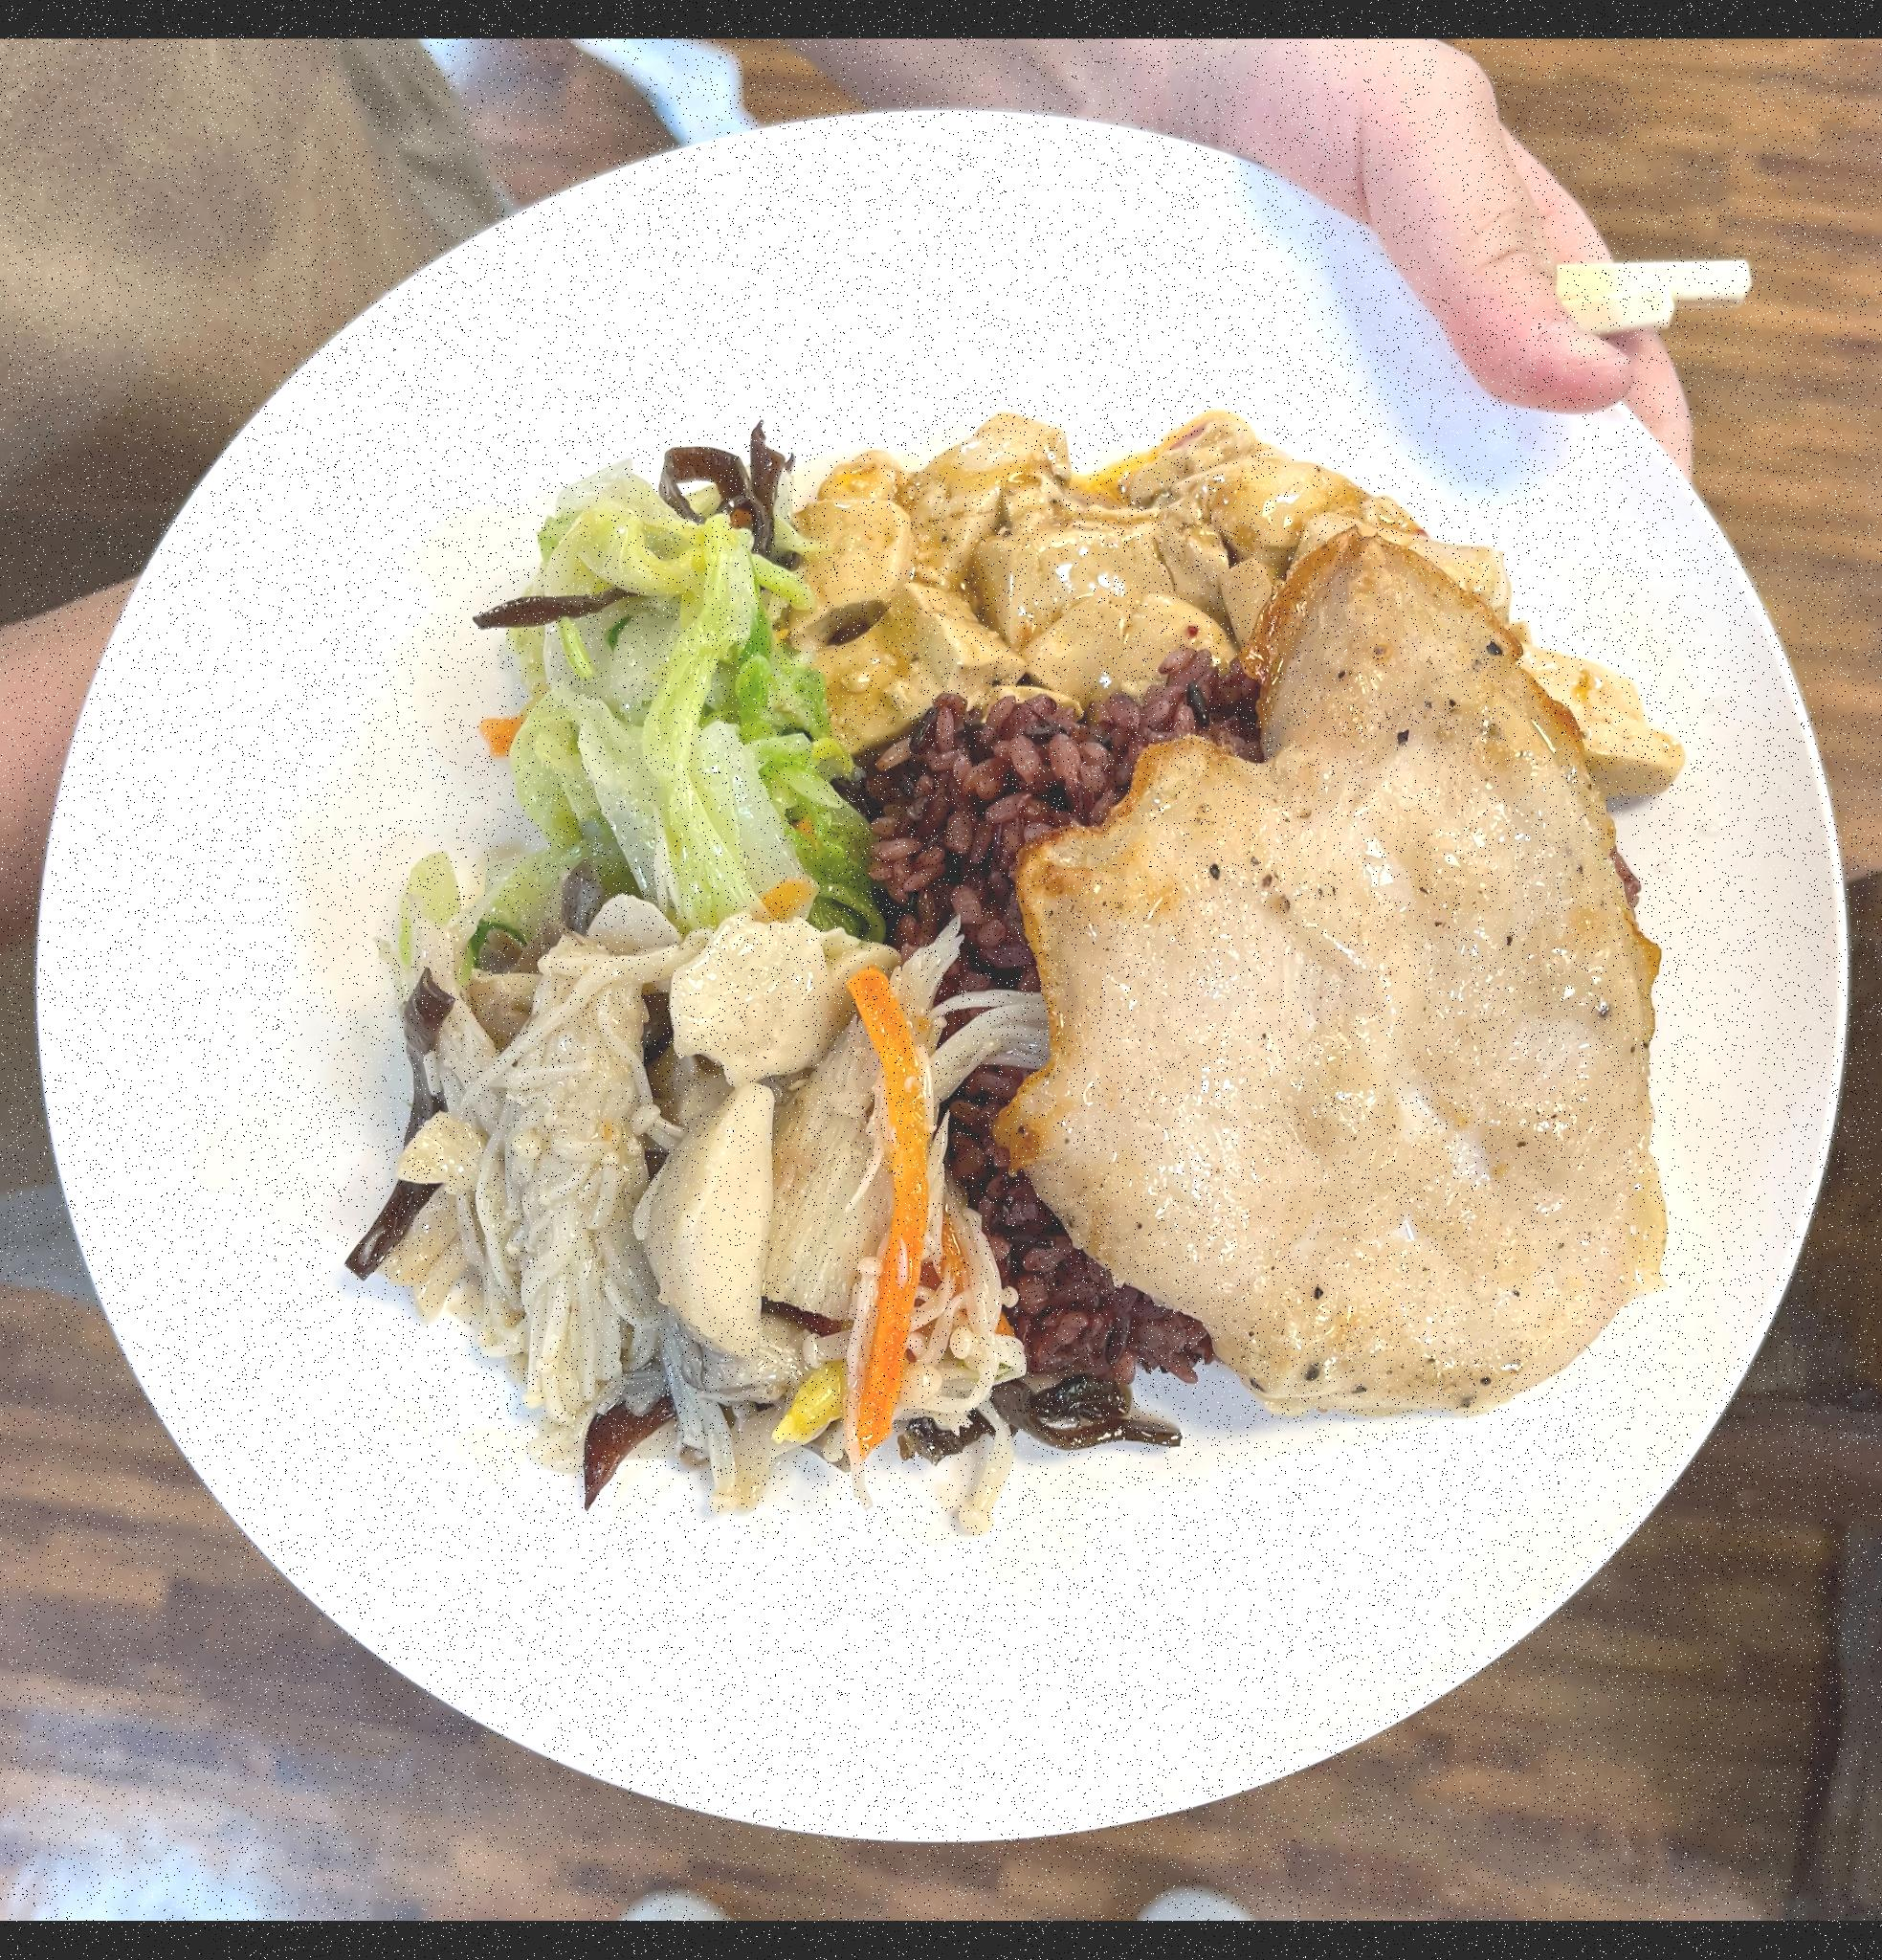grilled chicken steak: (1042, 528, 1677, 1416)
plate: (40, 89, 1858, 1869)
purple rice: (862, 661, 1322, 1479)
side dish: (374, 887, 1004, 1489), (792, 413, 1424, 742), (519, 432, 868, 1006)
